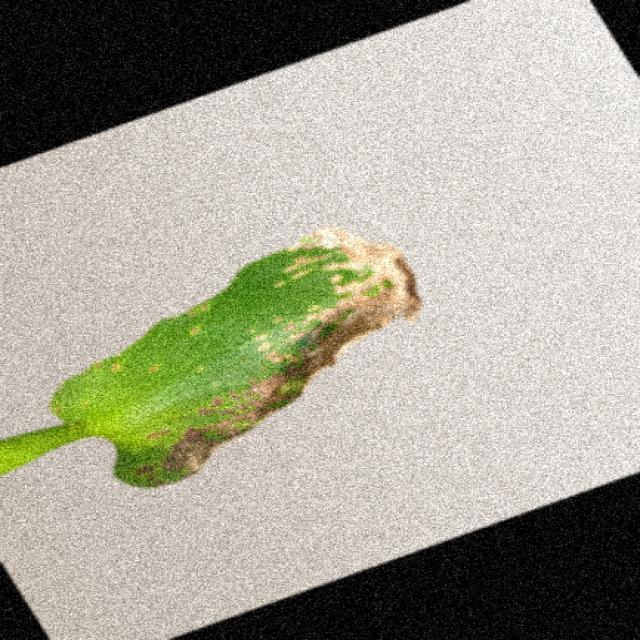daun berpenyakit bercak: (0, 228, 421, 487)
